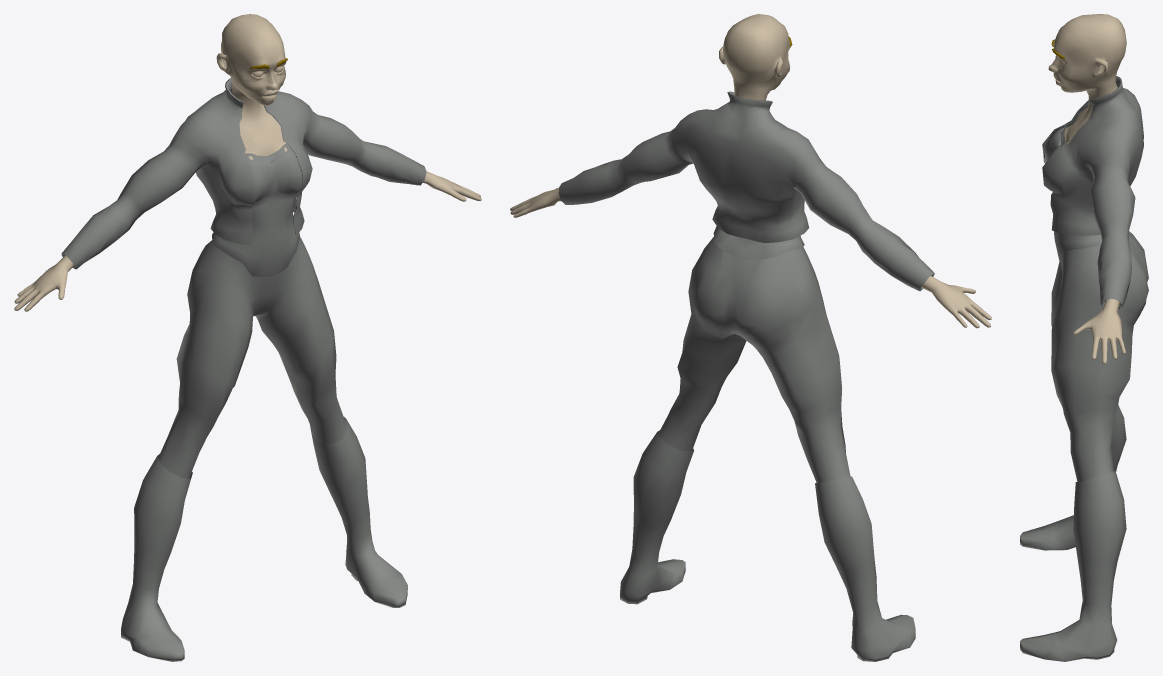
Rendered from Hero_UVs.fbx.
The picture shows the model from 3 angles, left to right: view 1: azimuth 30°, elevation 25°; view 2: azimuth 150°, elevation 25°; view 3: azimuth 270°, elevation 25°; orthographic projection. The views are drawn at different scales.
Parts seen in each view (by area): view 1: Body_Geo, Suit_Geo, Jacket_Geo, Corset_Geo; view 2: Suit_Geo, Jacket_Geo, Body_Geo, Corset_Geo; view 3: Body_Geo, Suit_Geo, Jacket_Geo, Corset_Geo.
Part boxes in pixels (x1,y1,x2,y2): Body_Geo: (14, 14, 481, 661); Suit_Geo: (158, 143, 346, 478); Jacket_Geo: (61, 78, 426, 269); Corset_Geo: (212, 148, 301, 277); Suit_Geo: (658, 237, 850, 482); Jacket_Geo: (558, 91, 934, 291); Body_Geo: (510, 14, 991, 661); Corset_Geo: (713, 226, 804, 261); Body_Geo: (1020, 14, 1126, 661); Suit_Geo: (1051, 123, 1148, 481); Jacket_Geo: (1042, 76, 1143, 309); Corset_Geo: (1044, 126, 1101, 262).
Bounding box in the file's own units: 29.28 × 35.23 × 7.1.
